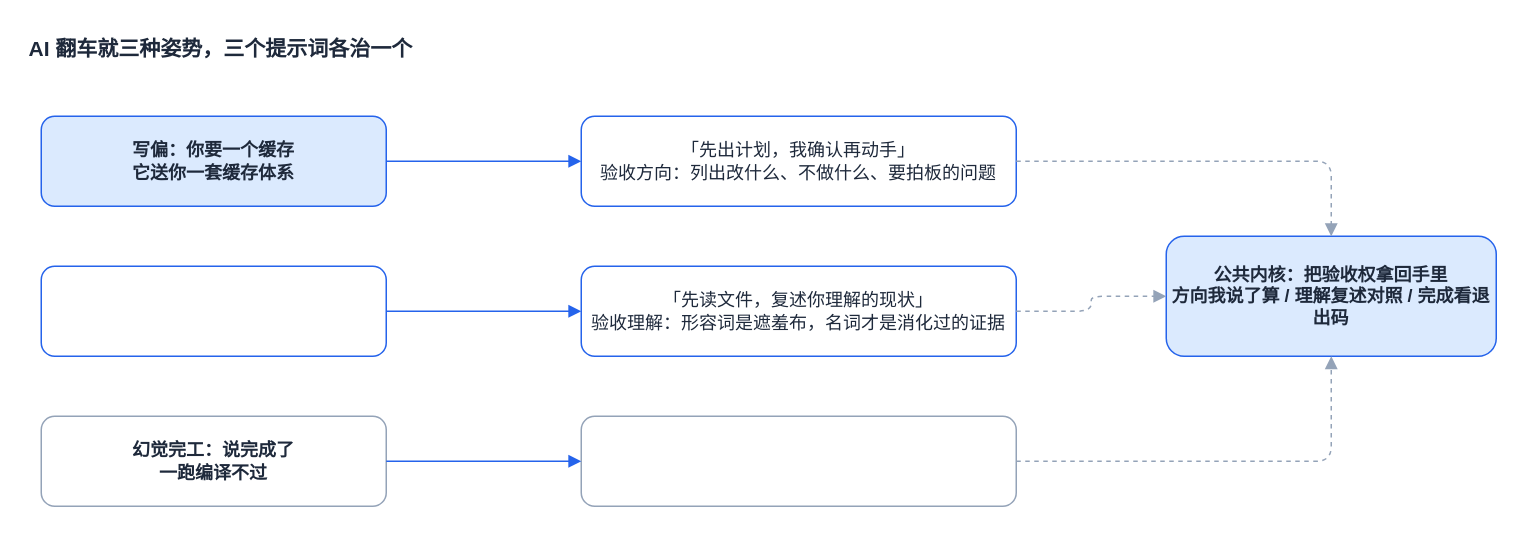
This 1523x533 diagram has some shape labels left out. The shapes that lost their labels are listed below. From the top down, each one's centre as x and y in pixels, then its label:
At point 213,310: "写瞎：不读你的代码 按通用最佳实践重写".
At point 798,460: "「跑完检查，绿灯了再汇报」 验收完成：退出码说了算，不许改测试凑绿".
